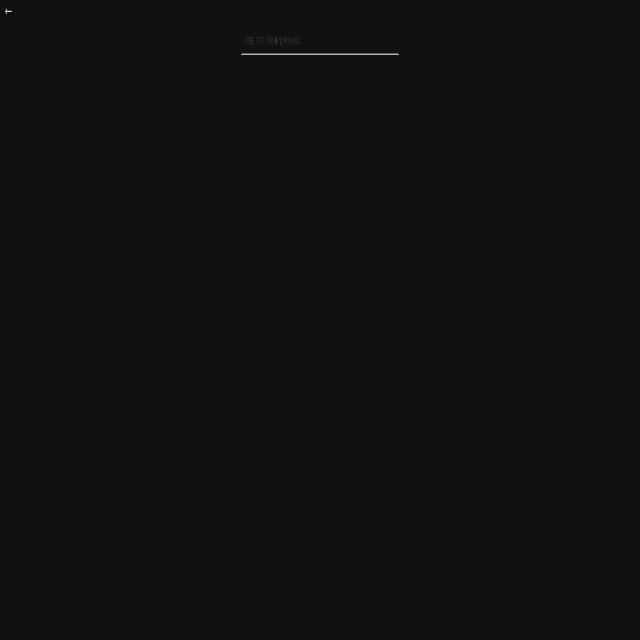search: (236, 24, 402, 63)
